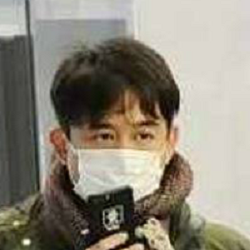mask: (59, 134, 163, 210)
